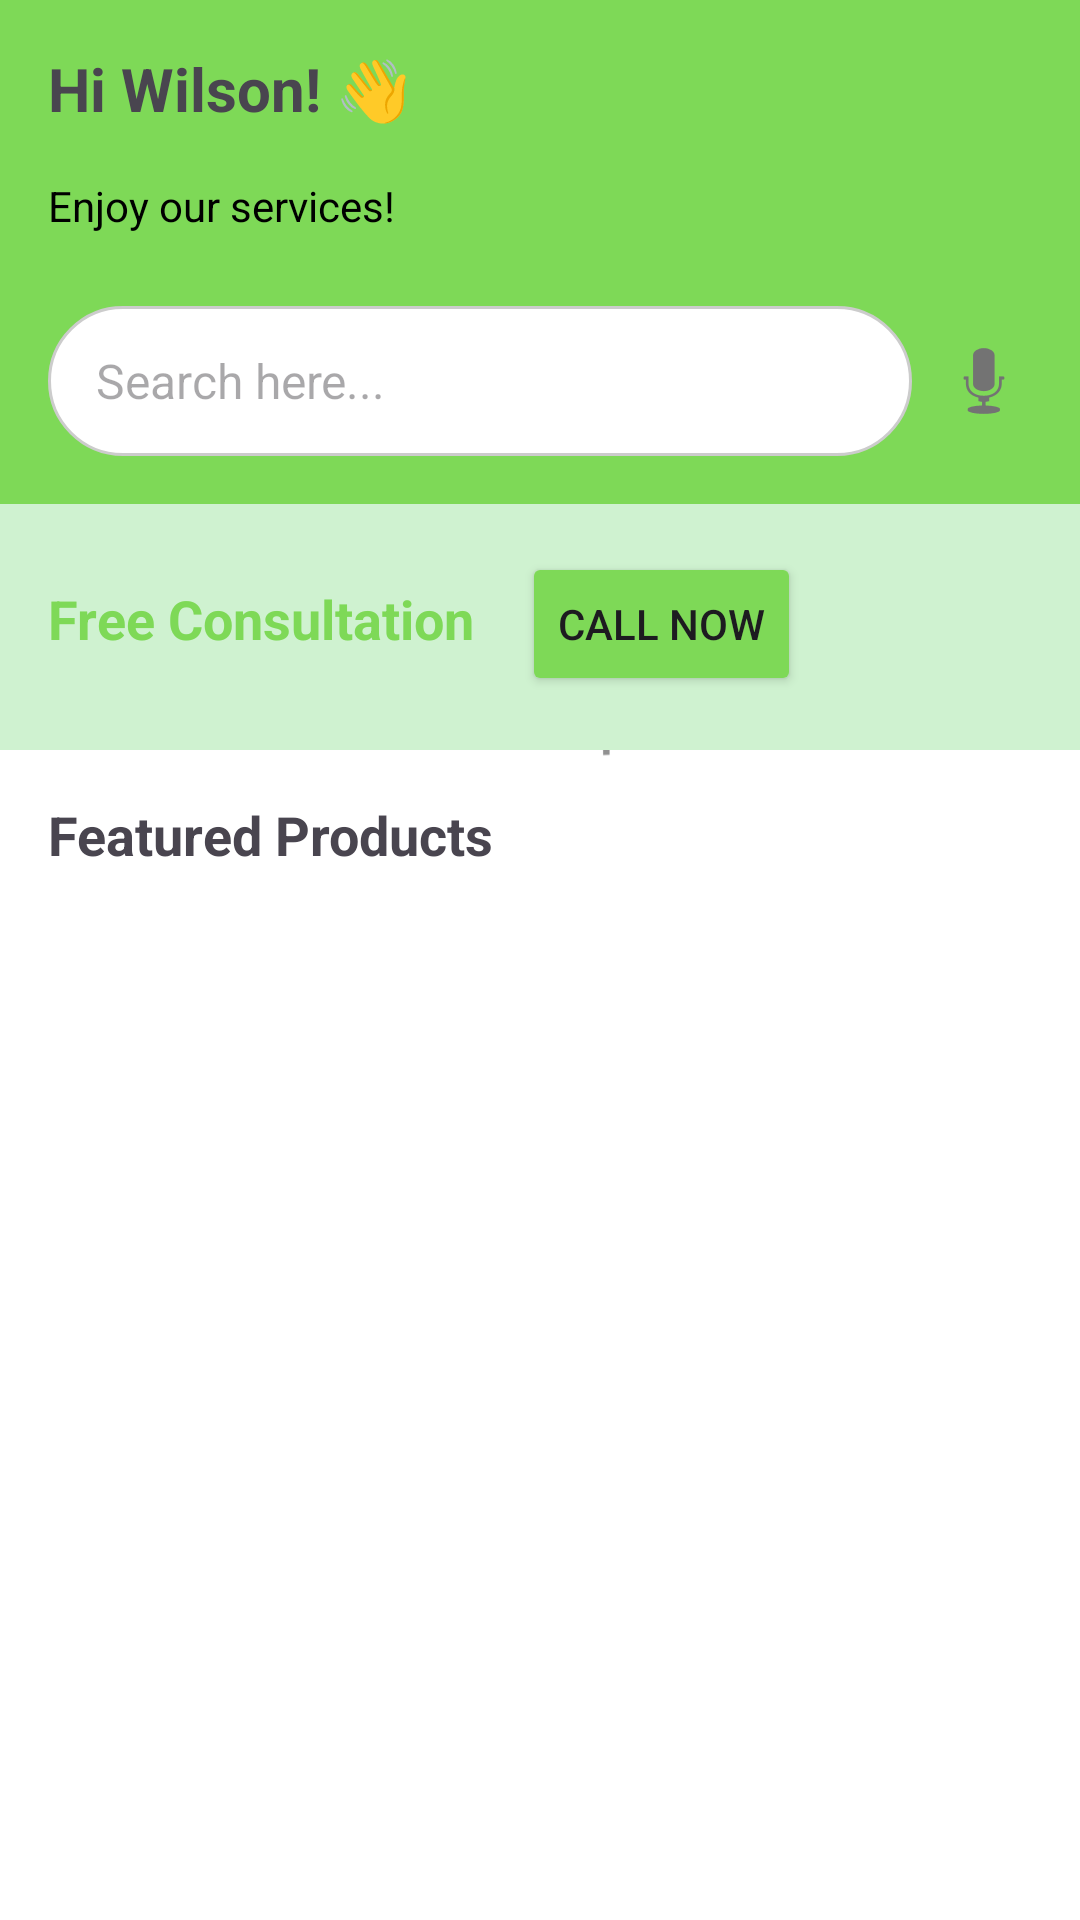

Icons on this 1080*1920 Android screen, each with the point to tap as point (x, y):
Voice Search: point (984, 381)
